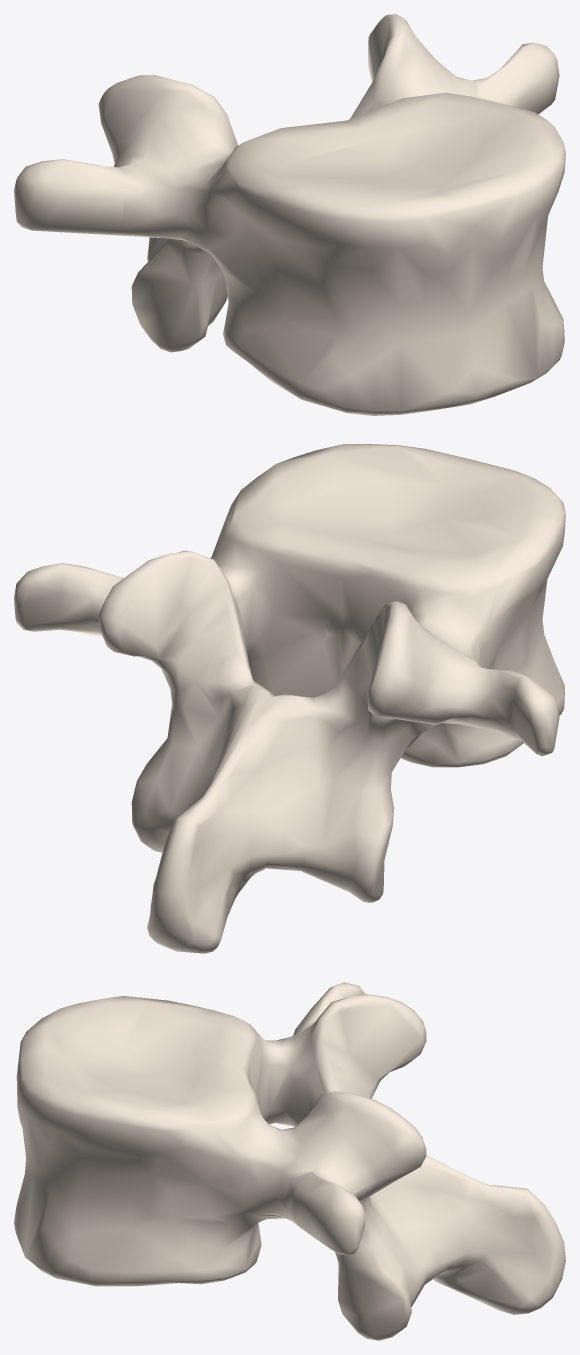
3 views of the same model, one above another, from view 1: azimuth 30°, elevation 25°; view 2: azimuth 150°, elevation 25°; view 3: azimuth 270°, elevation 25° (orthographic). The views are drawn at different scales.
Parts seen in each view (by area): view 1: Lumbar vertebrae (L3); view 2: Lumbar vertebrae (L3); view 3: Lumbar vertebrae (L3).
Boxes of the visible parts, x1,y1,x2,y2 form: Lumbar vertebrae (L3): (14,14,565,415); Lumbar vertebrae (L3): (14,444,565,953); Lumbar vertebrae (L3): (14,982,565,1340).
Size of the model in its own units: 0.0835 by 0.0441 by 0.0843.
